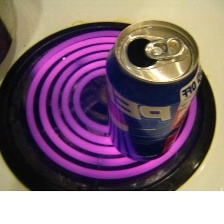can: (99, 14, 205, 165)
